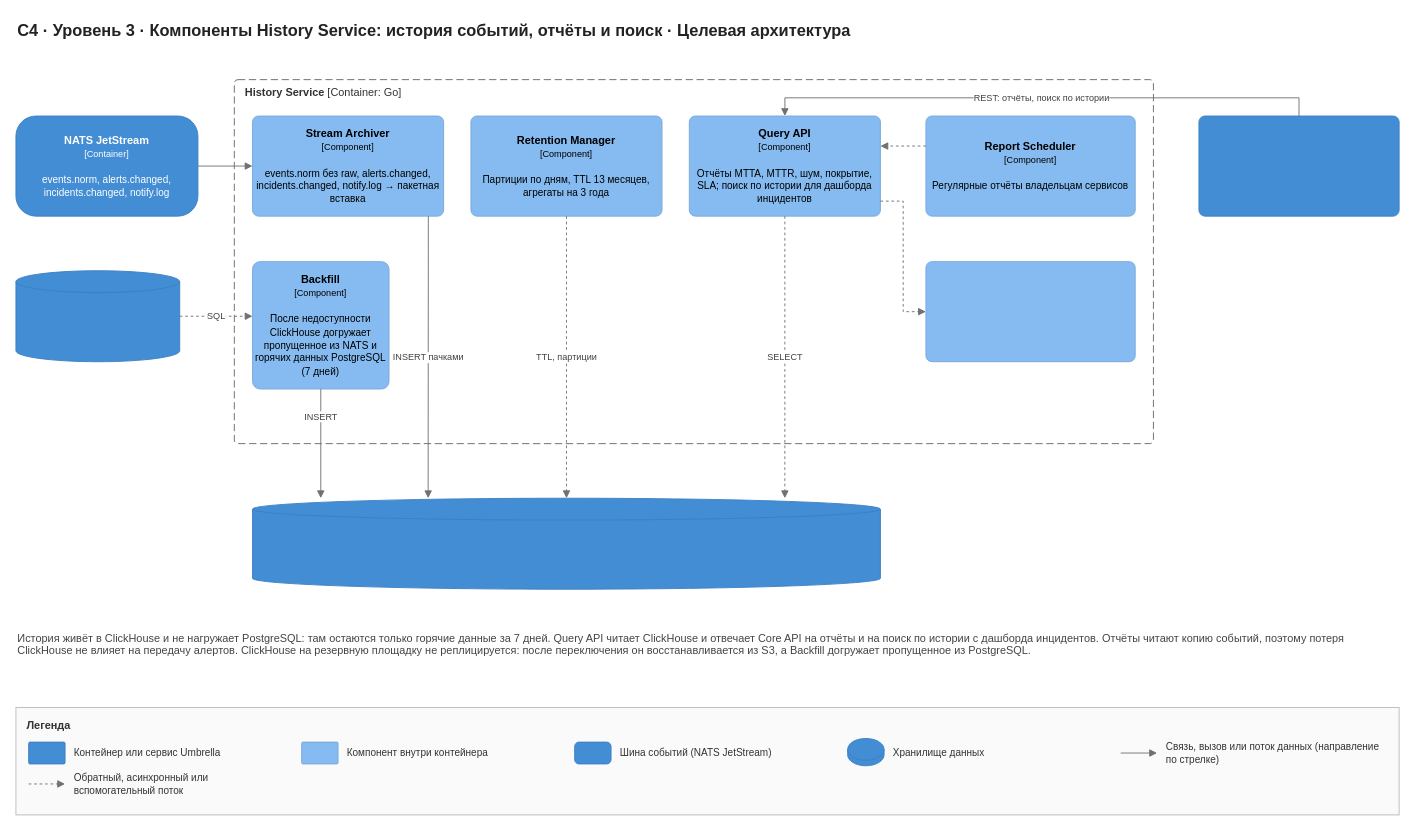
The diagram is 1415 pixels wide and 831 high, and some of its shapes have lost their labels. The centre of each missing label's shape, as x and y in pixels:
ClickHouse [Container: ClickHouse, 3 узла] события, тревоги, инциденты, отправки: point 566,543
Core API [Container] Reports Proxy, Incident Query & Search: point 1298,165
Masking [Component] Скрывает поля по разрешённому списку, правам и области: point 1030,311
PostgreSQL [Container] горячие данные 7 дней: point 97,316
